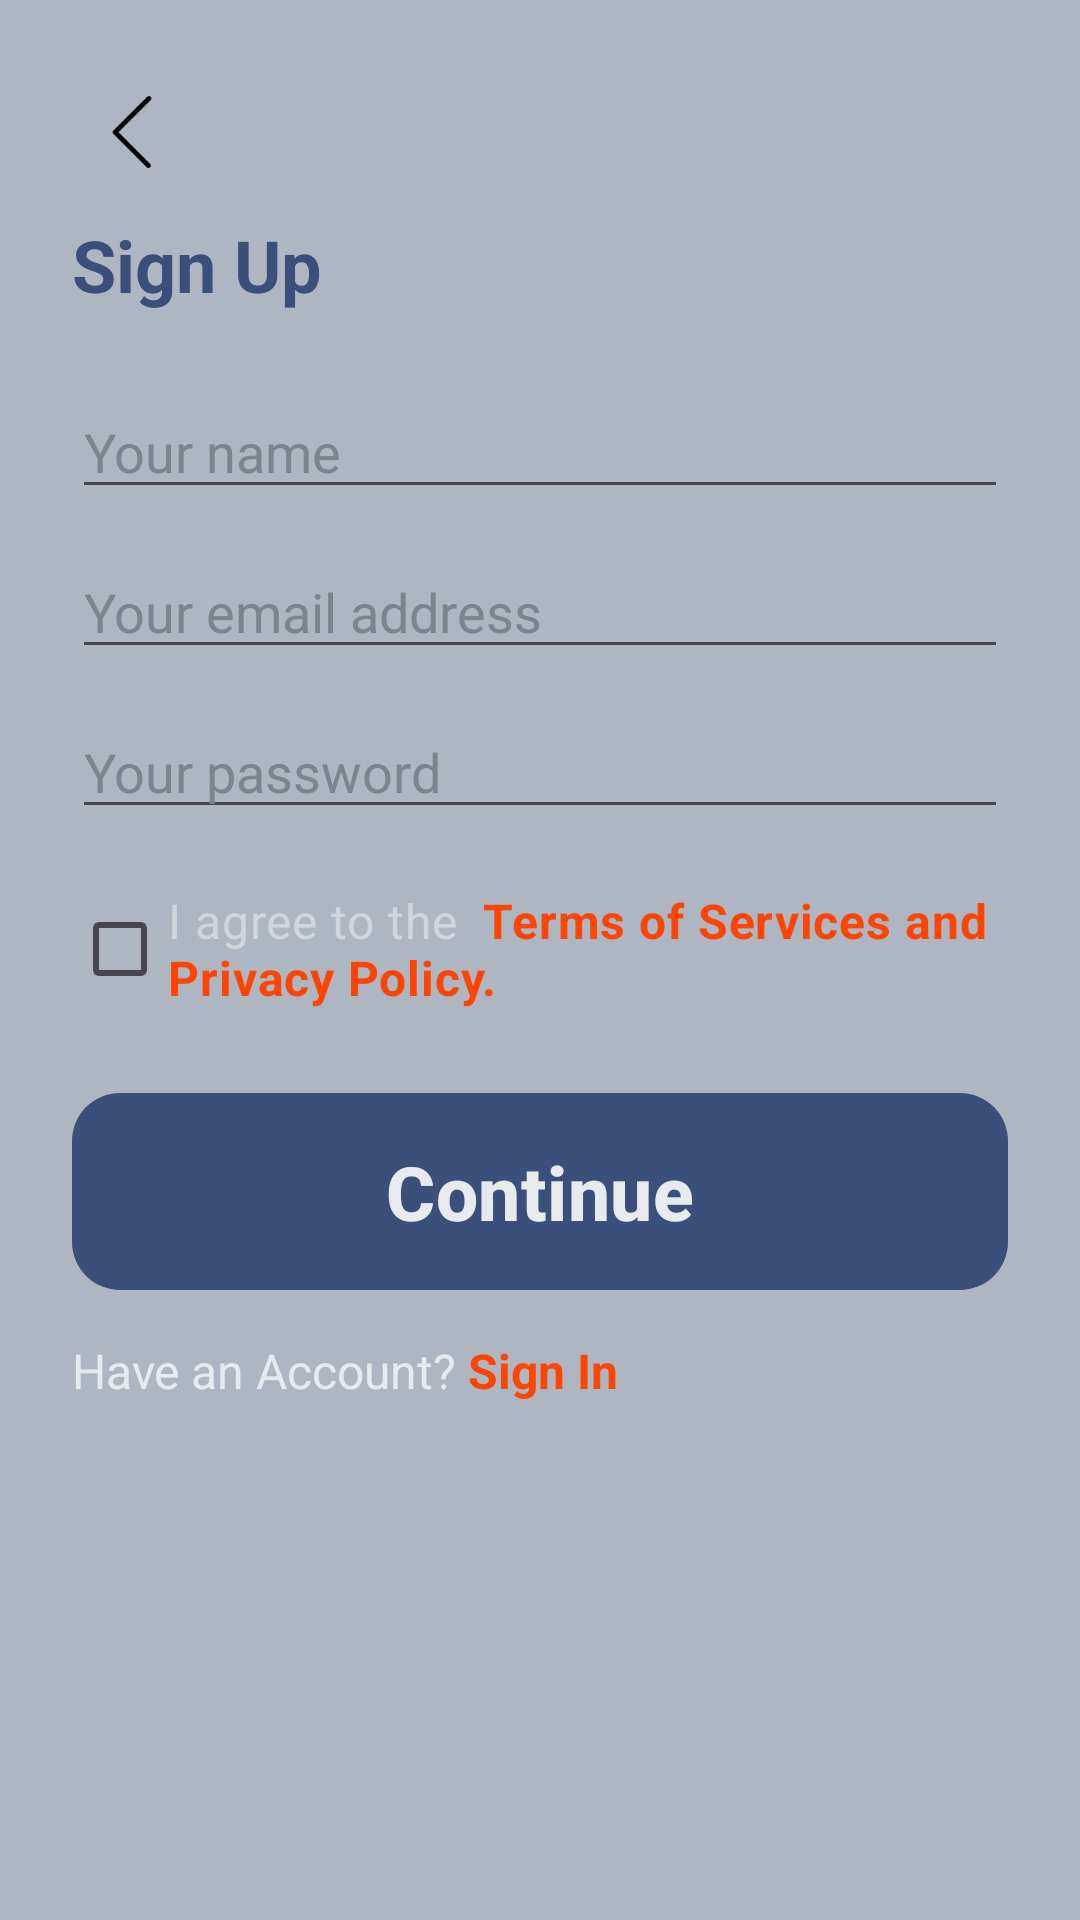

Icons on this 1080px×1920px Android screen, each with the point to tap as (x=x, y=y):
Wróć: (x=132, y=132)
